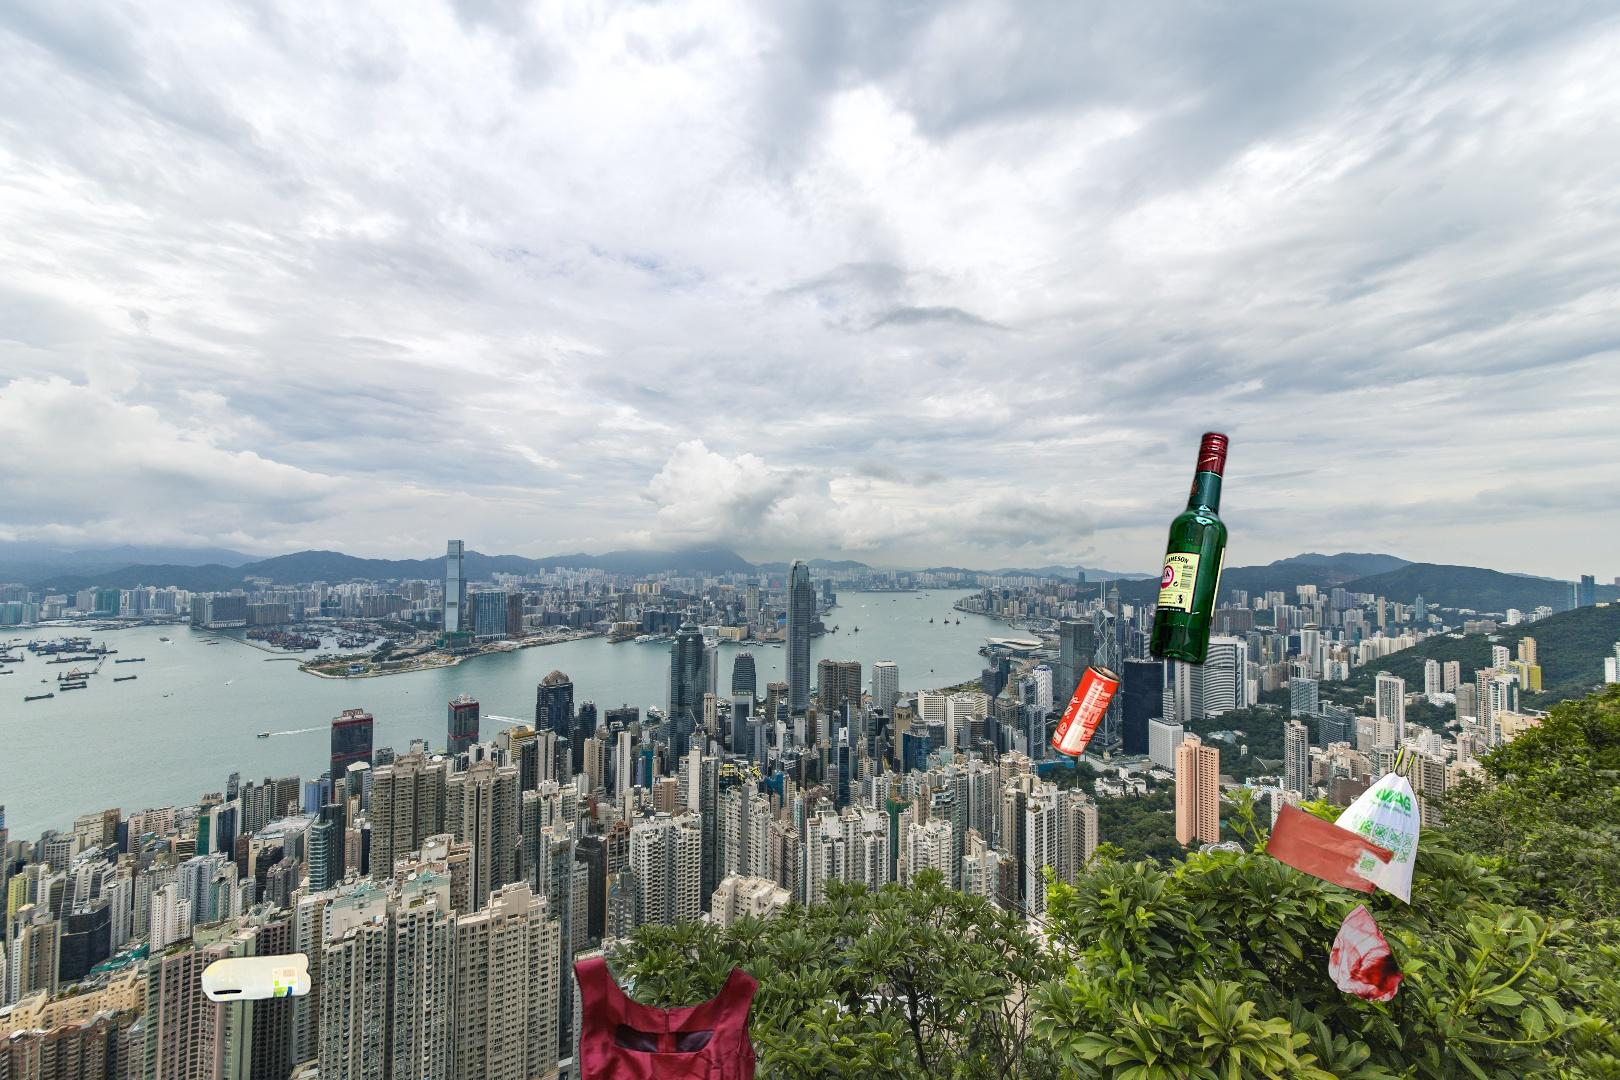clothes: (483, 948, 870, 1080)
glass: (1144, 425, 1233, 672)
metal-cans: (1048, 659, 1125, 764)
plastic-bag: (1259, 745, 1423, 1005)
plastic-bottles: (57, 946, 316, 1080)
